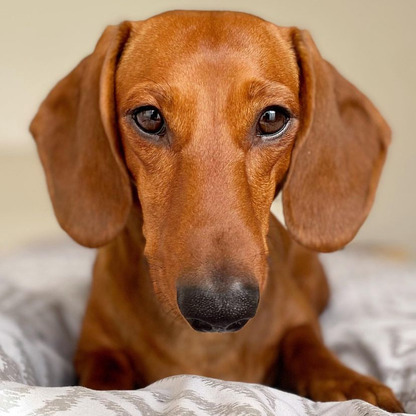dachshund: (22, 19, 398, 416)
